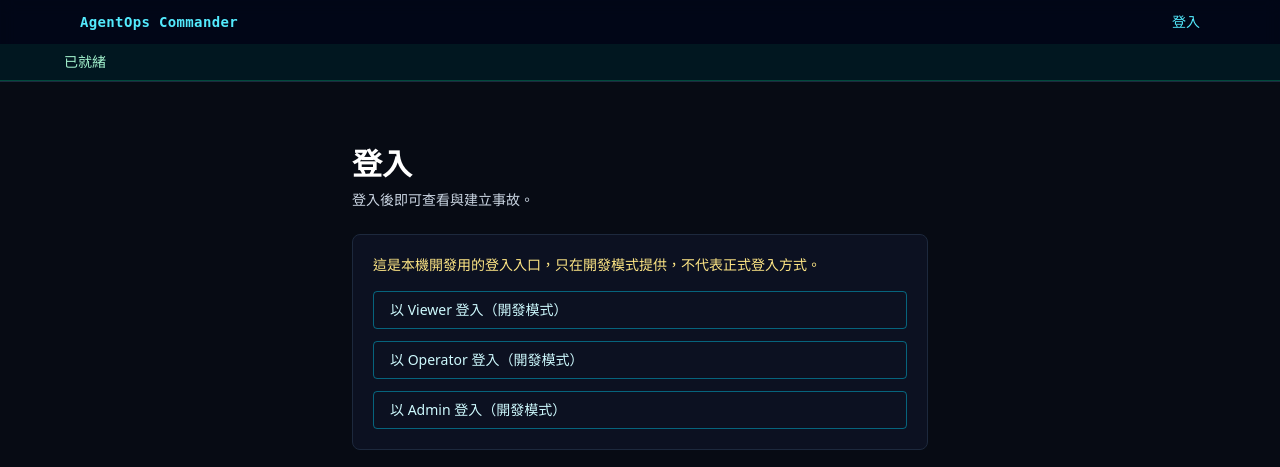
it: 路由保護 › 登出後導向 /login 並清除登入狀態
The image size is (1280, 467).
Click the button "以 Operator 登入（開發模式）". click: (487, 360)
box: [373,341,907,379]
Wait 60 ms
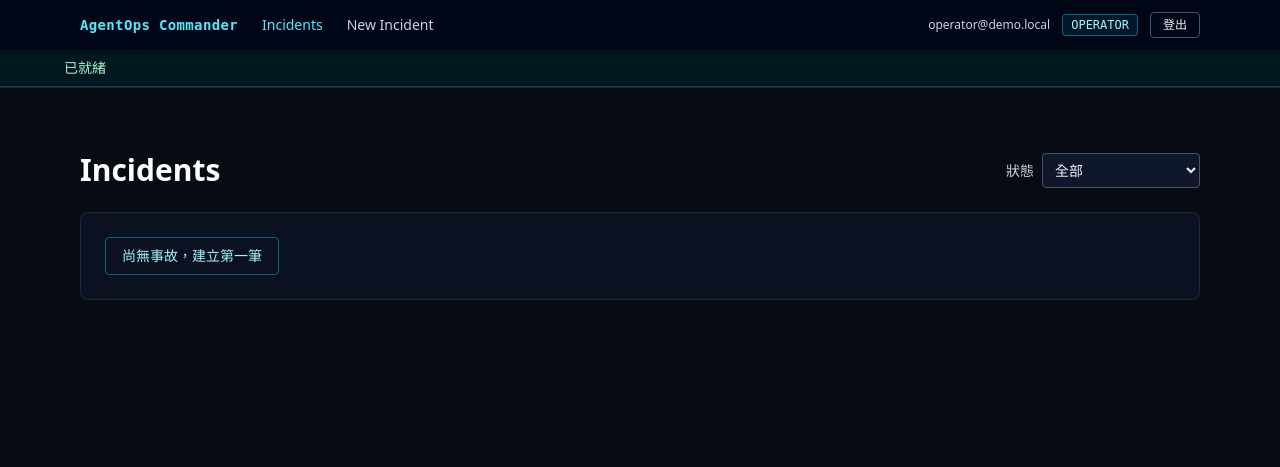
Click the button "登出". click: (1175, 25)
box: [1150,12,1200,38]
Wait 60 ms
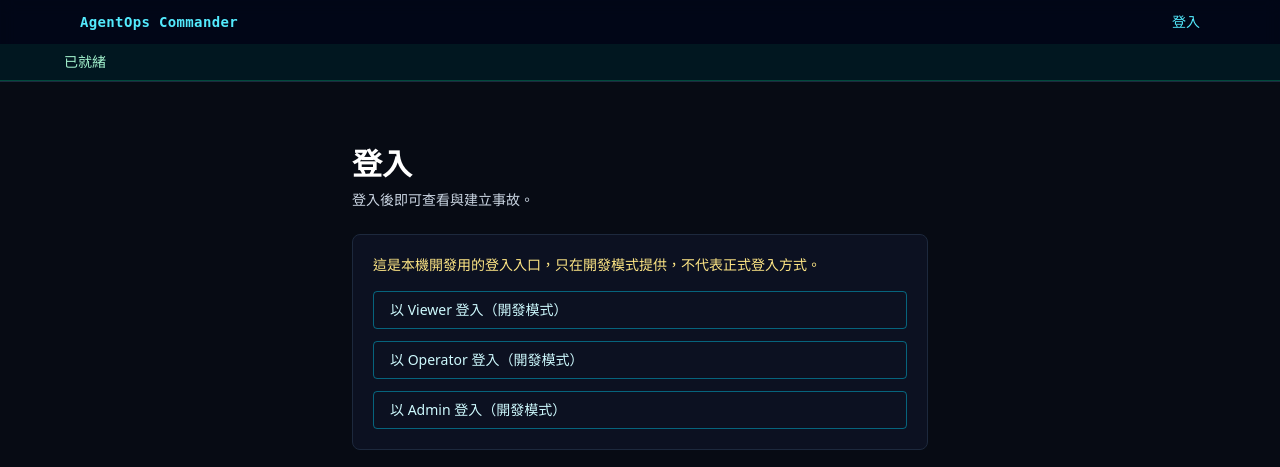
Now the text "operator@demo.local" is gone
